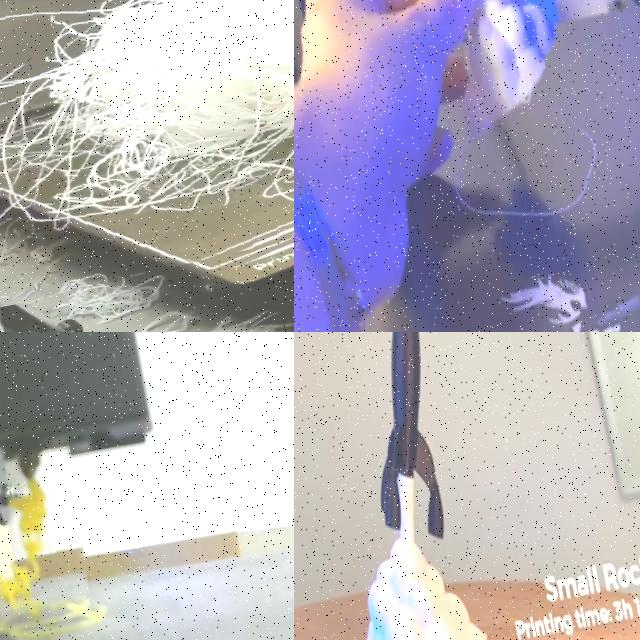spaghetti: (0, 0, 294, 309), (0, 481, 94, 632)
